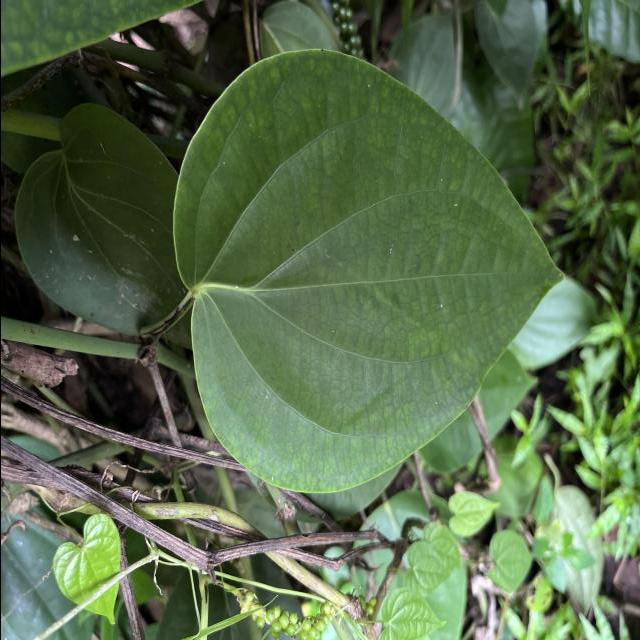Piper nigrum: (170, 49, 568, 499)
